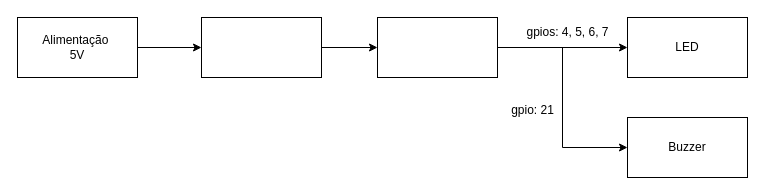
This 765x195 diagram has some shape labels left out. Each missing label, with the box of its shape:
ESP32-S3: (376, 16, 498, 78)
Regulador 3,3 V: (200, 16, 322, 78)
